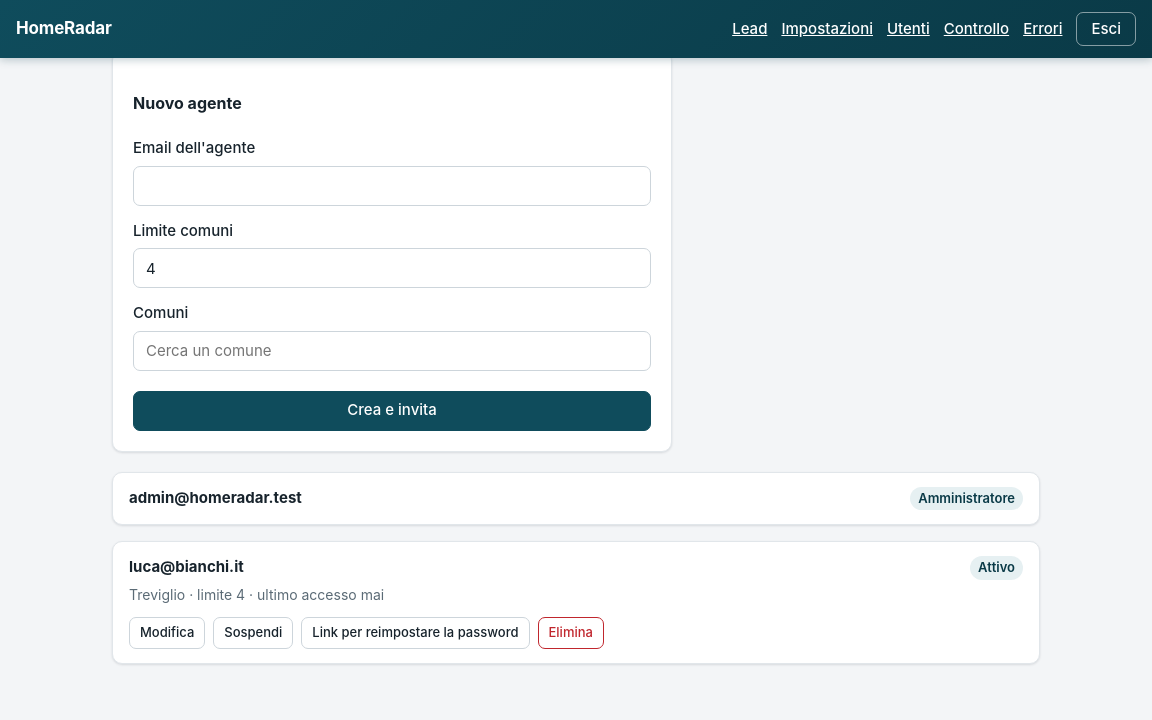
Test: admin utenti › mostra l'errore sui comuni accanto all'azione
(page scrolled)
Click the button "Modifica": (167, 632) [129,616,205,648]
(page scrolled)
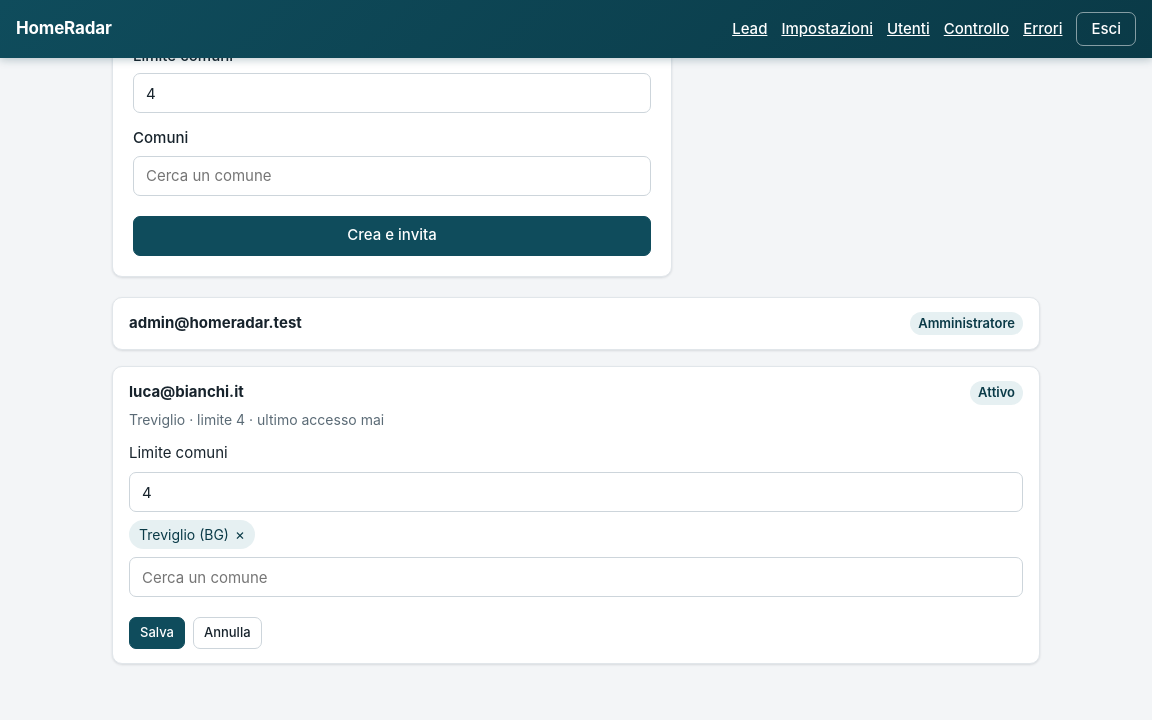
Click the button "Salva": (157, 633) [129,617,185,649]
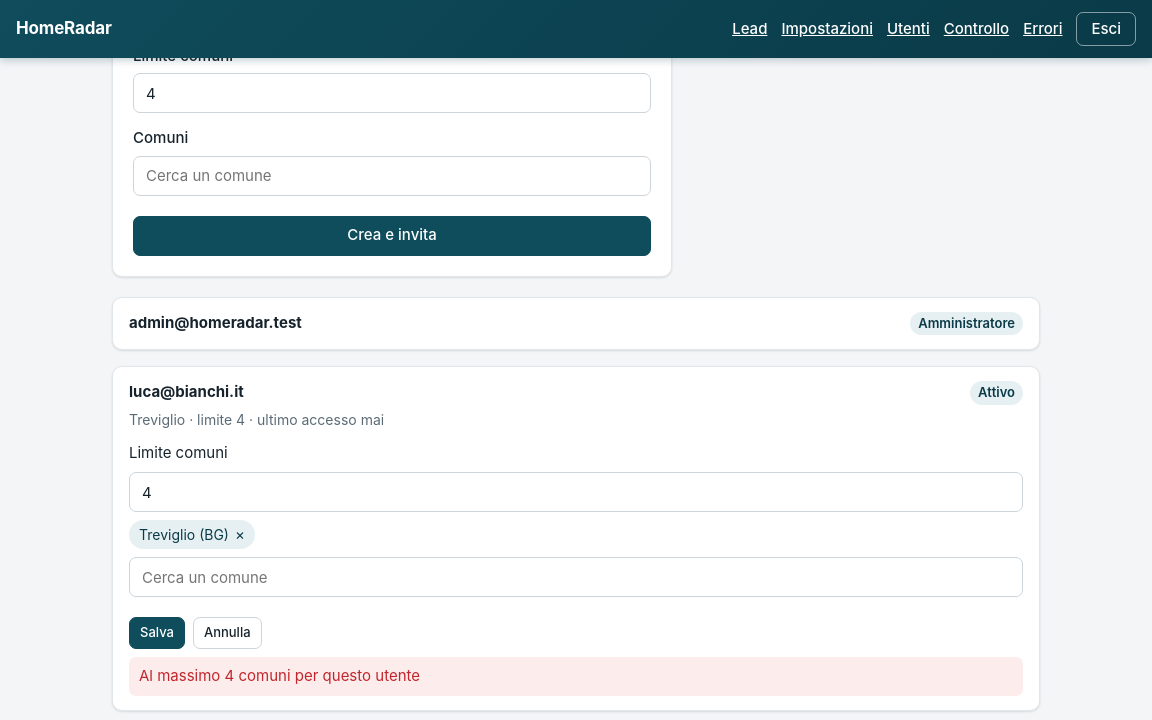
Now the text "Al massimo 4 comuni per questo utente" is shown, box [129,657,1023,696]
